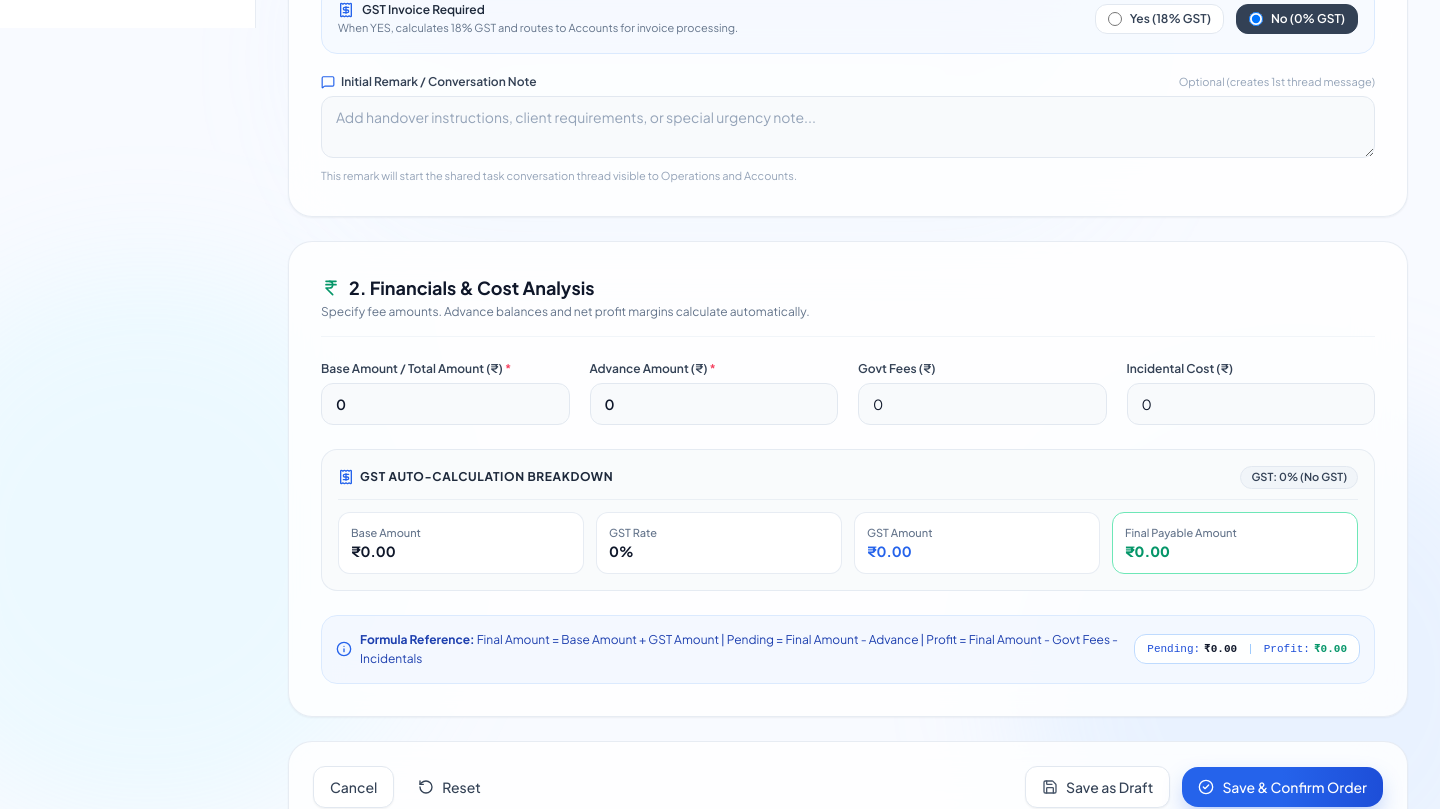
Test case: GST Auto-Calculation in Sales Entry Form › Case 6: Empty amount is handled according to existing form validation rules
(page scrolled)
Clear the number field with test id "base-amount-input": (445, 404) x1=321 y1=383 x2=570 y2=425
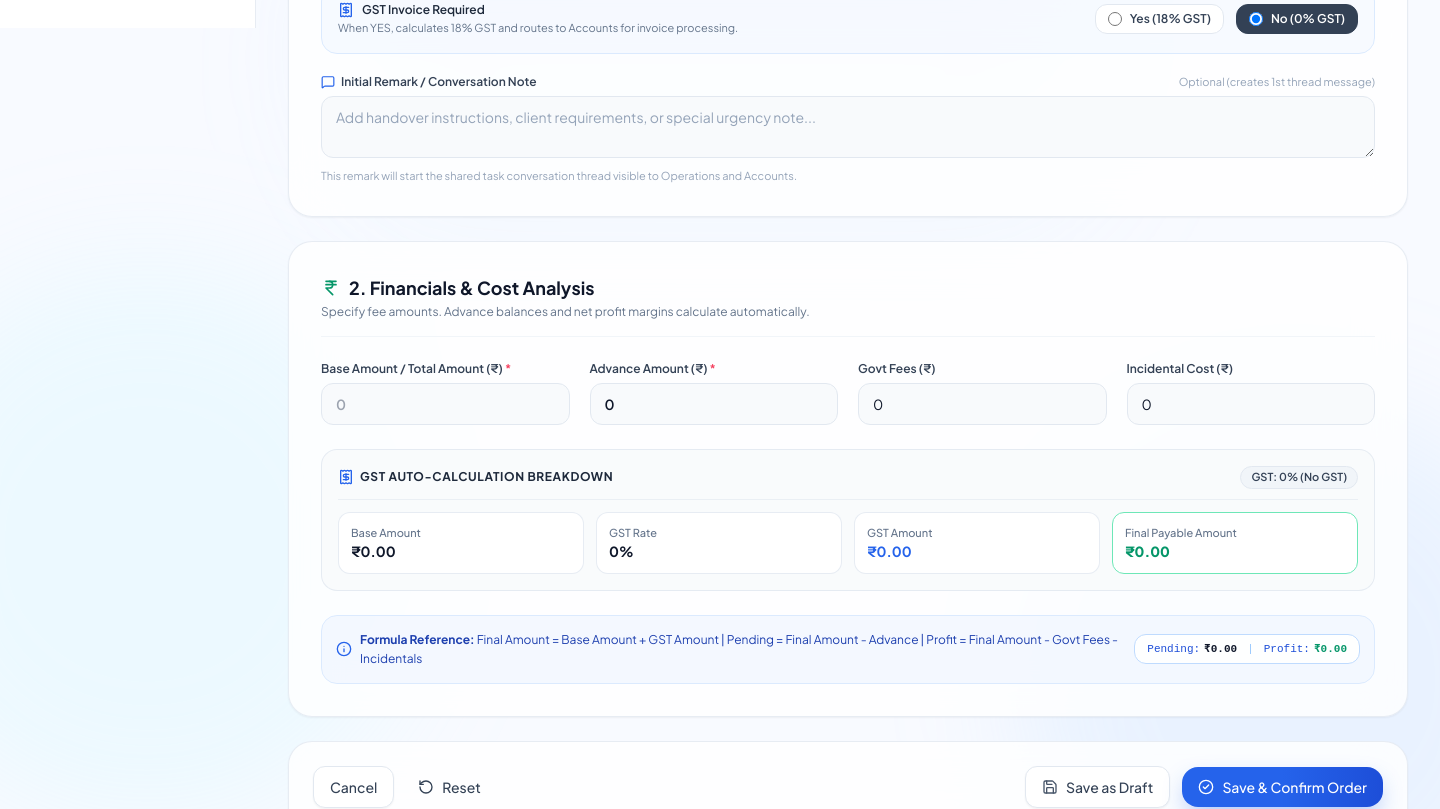
Expected: the text with test id "summary-base-amount" reads "₹0.00", x1=351 y1=542 x2=396 y2=560
Expected: the text with test id "summary-gst-amount" reads "₹0.00", x1=867 y1=542 x2=912 y2=560
// Attempt form submit
Click the button "Save & Confirm Order": (1283, 786) x1=1182 y1=766 x2=1383 y2=806
(page scrolled)
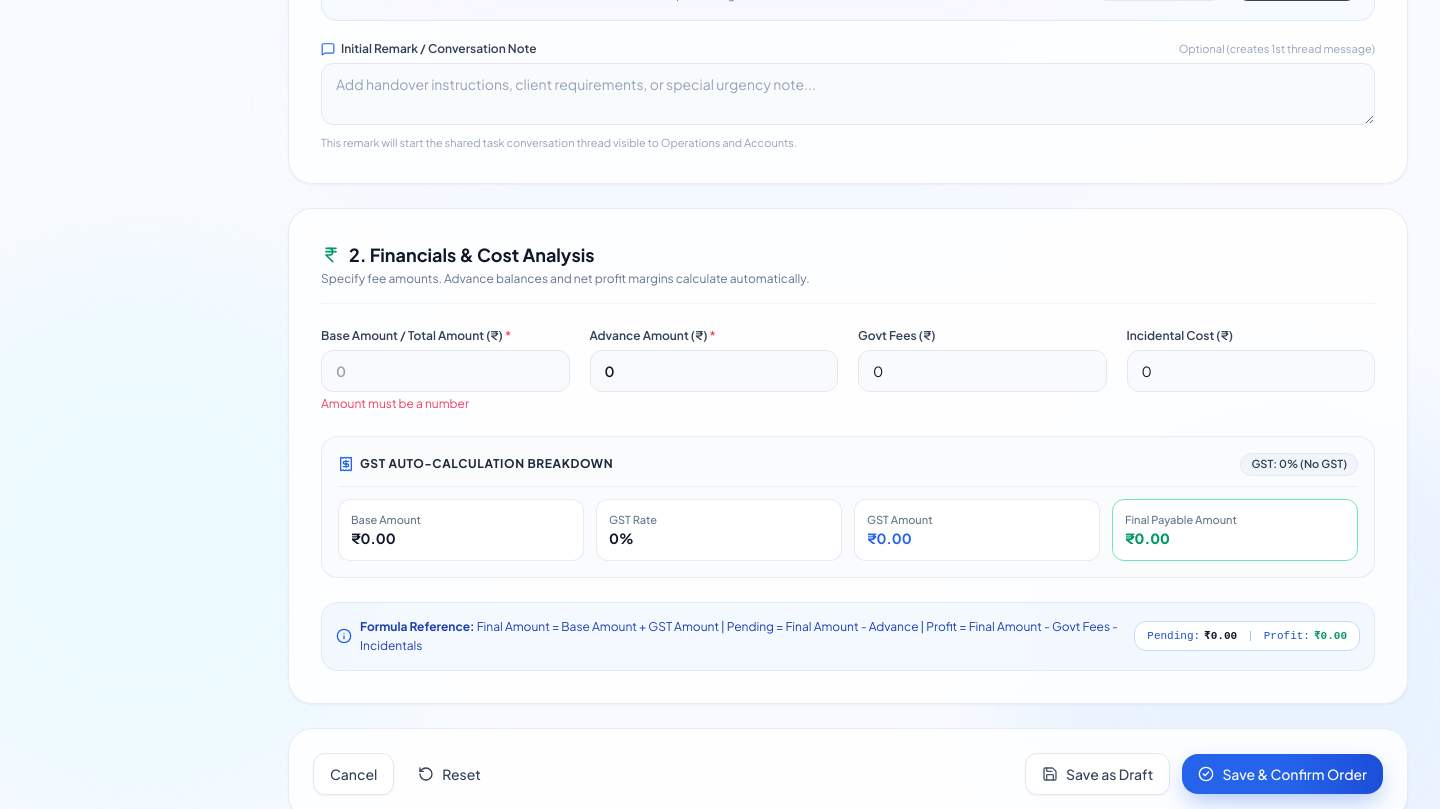
Expected: the text "Amount must be a number" is shown, x1=321 y1=396 x2=469 y2=411
